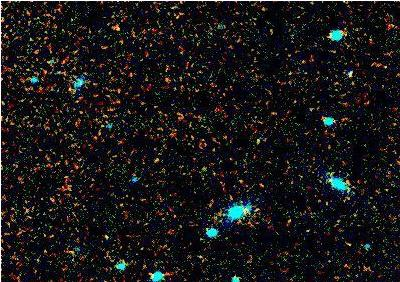star: (100, 10, 130, 40)
